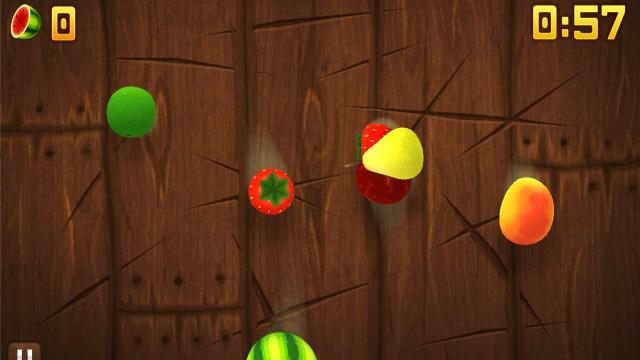fruit: (498, 176, 556, 246), (362, 127, 424, 179), (106, 86, 156, 138), (356, 162, 410, 204), (353, 119, 405, 161), (248, 168, 294, 214), (246, 332, 318, 360)
ignore: (10, 4, 42, 40)
